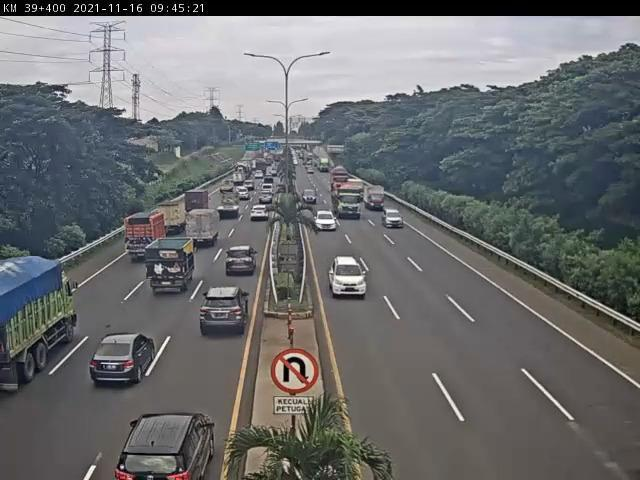car: (91, 335, 156, 384), (201, 288, 250, 335), (331, 258, 368, 301), (226, 248, 257, 275), (315, 209, 339, 234), (381, 207, 406, 229), (251, 209, 272, 226), (235, 187, 252, 203), (260, 194, 275, 208)
truck: (2, 260, 81, 379), (146, 239, 197, 292), (126, 216, 164, 256), (333, 181, 366, 222), (186, 214, 218, 249), (158, 204, 186, 235), (183, 191, 211, 216), (215, 194, 240, 221)
